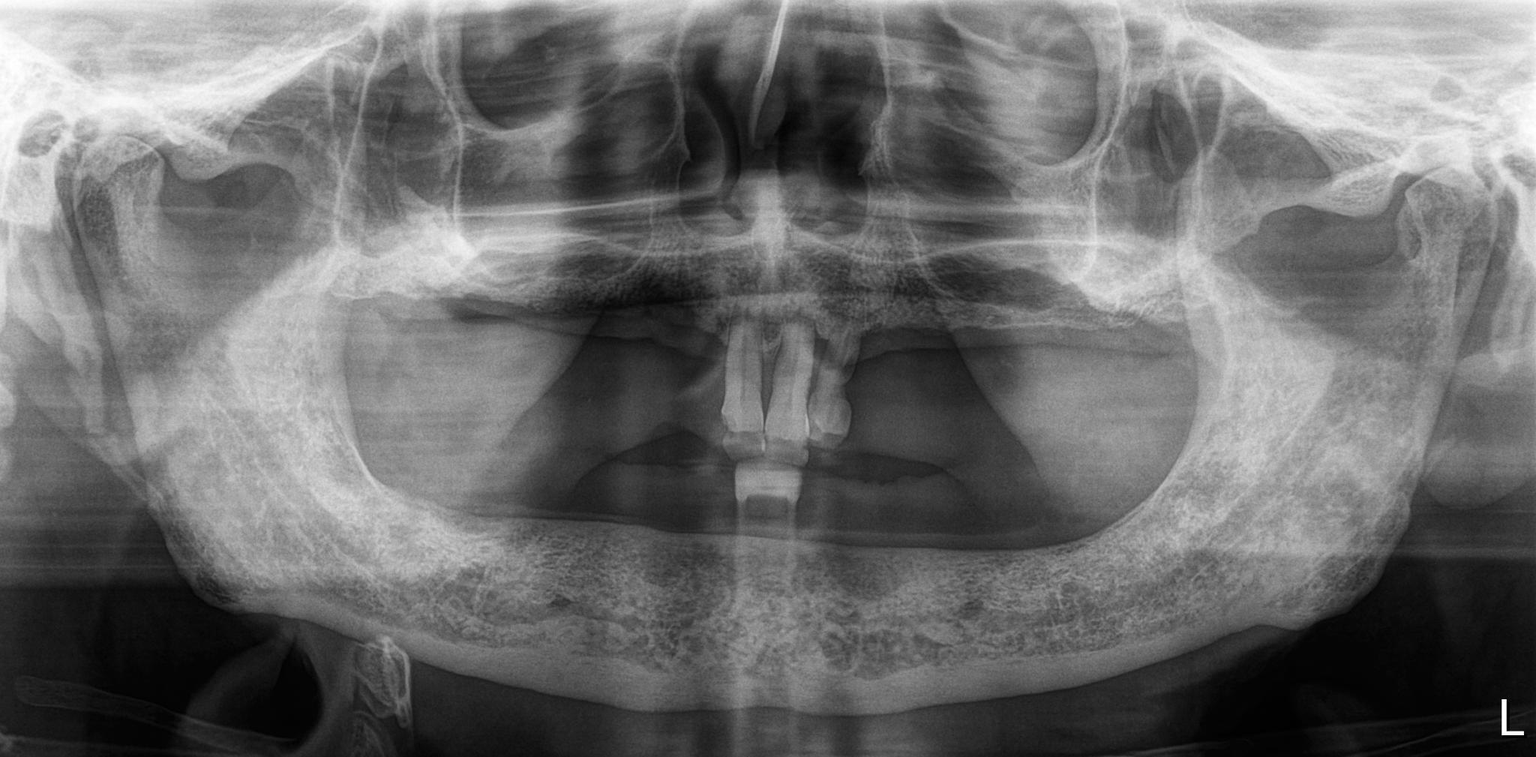Missing Tooth: (411, 276, 460, 405), (641, 302, 692, 410), (578, 461, 625, 570), (356, 278, 397, 395), (1061, 317, 1100, 437), (1018, 315, 1055, 434), (831, 490, 881, 578), (696, 469, 739, 566), (474, 296, 518, 390), (998, 482, 1045, 569), (962, 324, 1000, 431), (936, 484, 980, 573), (1123, 319, 1157, 434), (518, 445, 560, 537), (583, 296, 622, 395), (532, 294, 568, 401), (373, 445, 416, 534), (861, 336, 896, 438), (469, 452, 509, 536), (913, 328, 941, 443), (638, 461, 671, 558), (424, 448, 460, 536), (696, 317, 731, 407), (1099, 469, 1141, 540), (896, 488, 926, 578), (1063, 475, 1091, 569)
